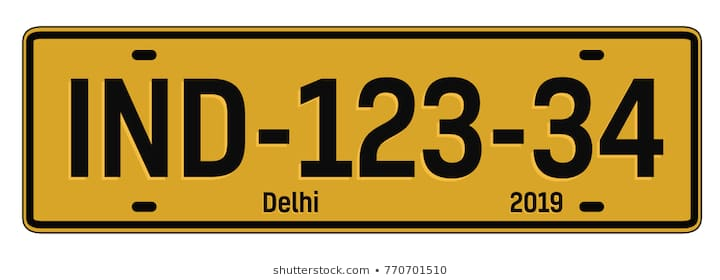number_plate: (19, 23, 706, 237)
